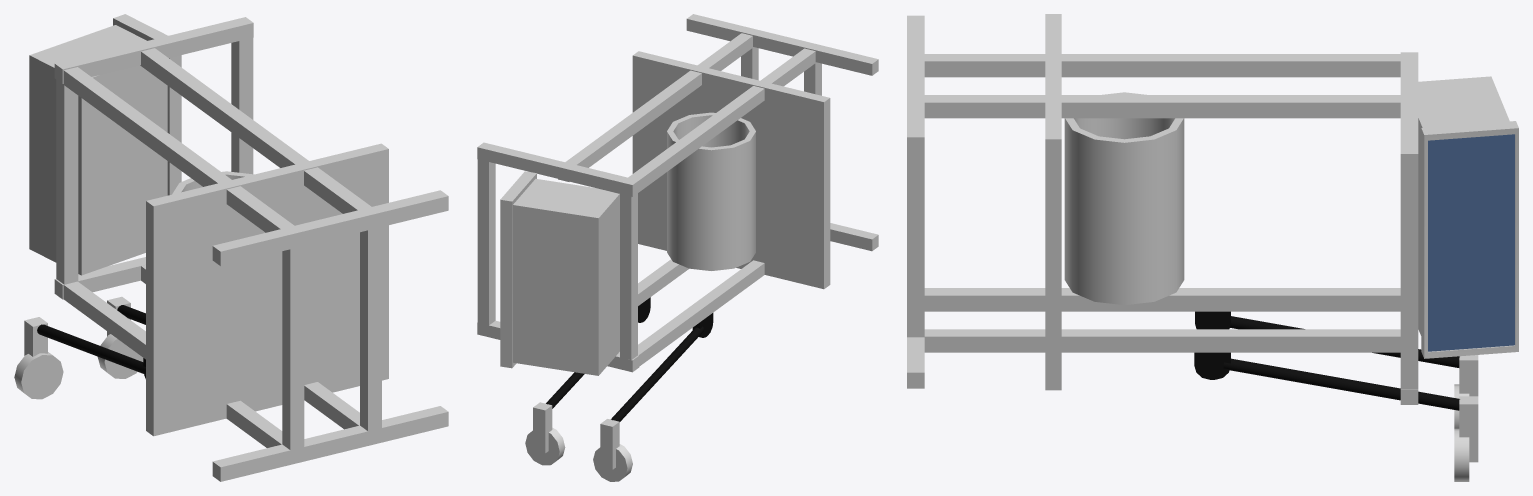
The picture shows the model from 3 angles, left to right: view 1: azimuth 30°, elevation 25°; view 2: azimuth 150°, elevation 25°; view 3: azimuth 270°, elevation 25°; orthographic projection. The views are drawn at different scales.
Visible parts, largest first — view 1: Cube.012; view 2: Cube.012; view 3: Cube.012.
Part boxes in pixels (x1,y1,x2,y2): Cube.012: (14, 14, 448, 481); Cube.012: (477, 14, 878, 481); Cube.012: (907, 14, 1518, 481).
Size of the model in its own units: 63.1 by 79.98 by 116.
